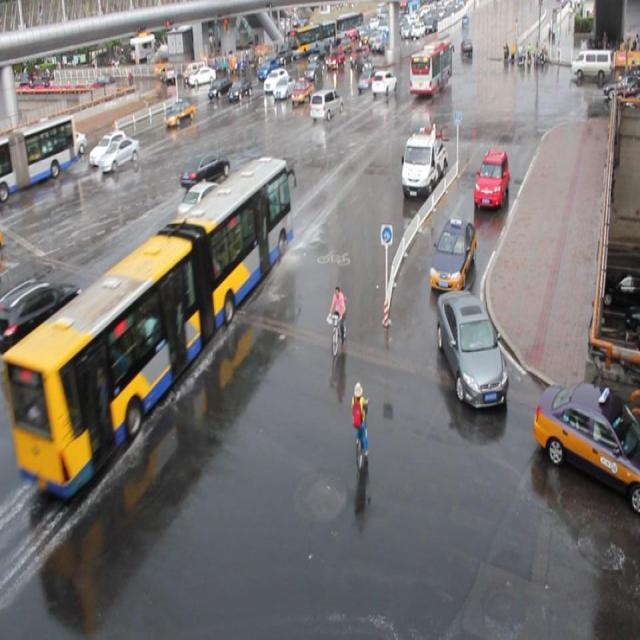bus: (399, 126, 447, 196)
car: (531, 380, 640, 511), (435, 288, 508, 407), (1, 276, 81, 358), (429, 215, 476, 291), (177, 181, 234, 230), (472, 148, 509, 209), (180, 150, 230, 188), (89, 130, 127, 167), (100, 137, 140, 172), (309, 88, 343, 120), (56, 127, 87, 156), (164, 98, 195, 127), (371, 70, 396, 96), (227, 78, 252, 102), (263, 68, 288, 92), (290, 77, 312, 103), (208, 76, 232, 99), (273, 75, 295, 100), (356, 69, 378, 91)
van: (11, 154, 292, 497), (1, 114, 76, 198), (408, 40, 452, 94)
